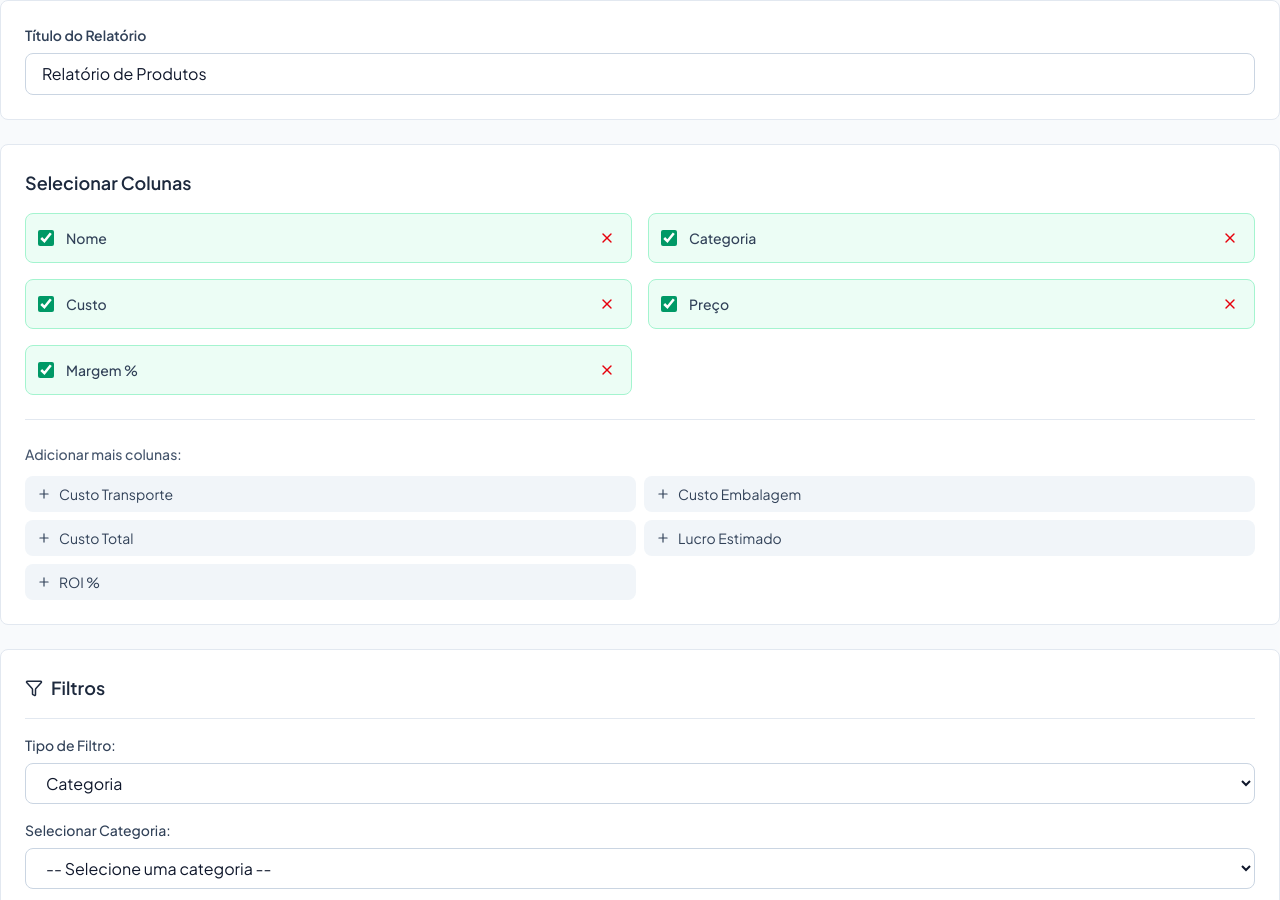
Scenario: ReportBuilder - Filter Functionality › Adding Filters › should add margin range filter
Select "Faixa de Margem" in the dropdown below "Tipo de Filtro:" at [640, 784], box [25,763,1255,804]
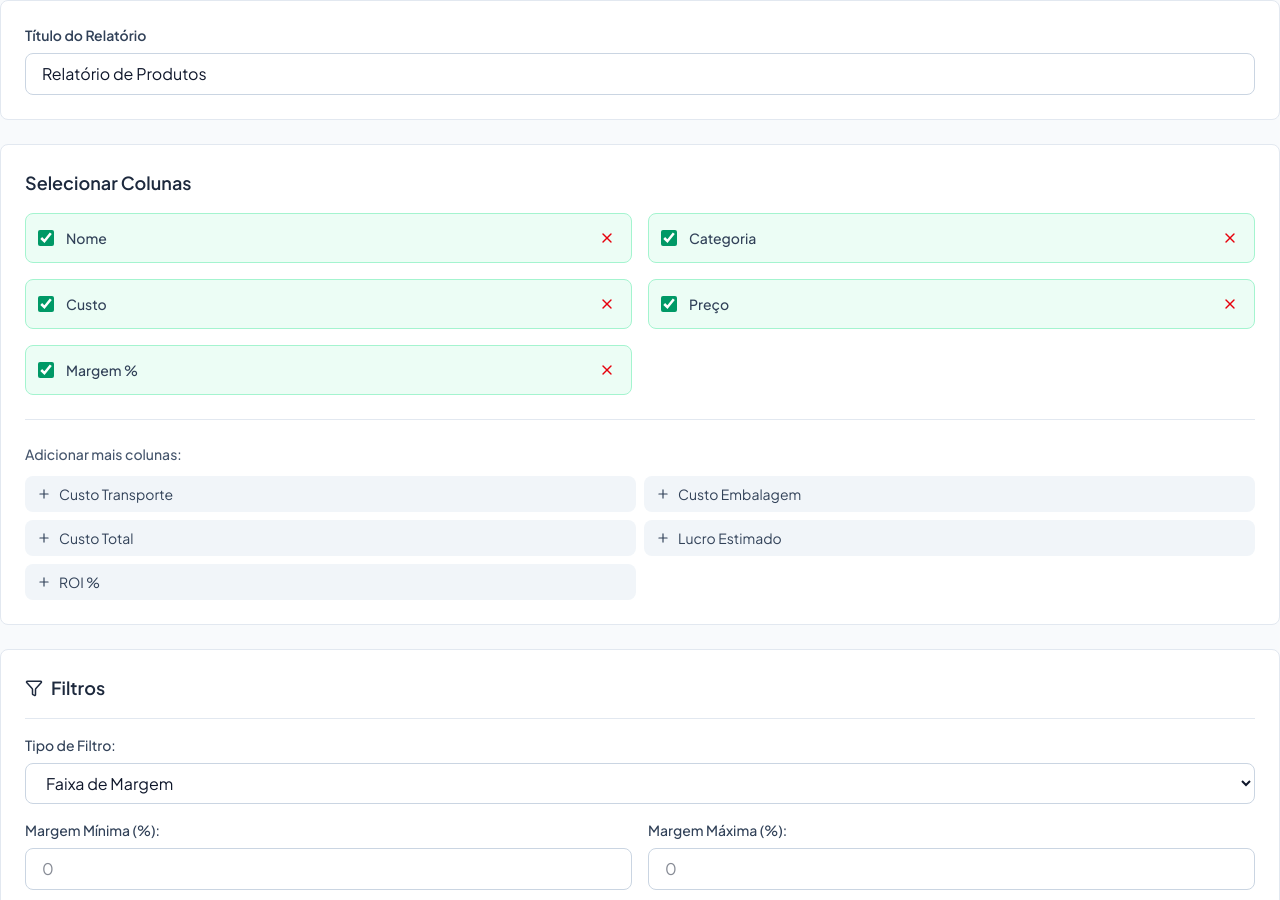
Type "20" into the number field labelled "Margem Mínima (%):" at [328, 869], box [25,848,632,890]
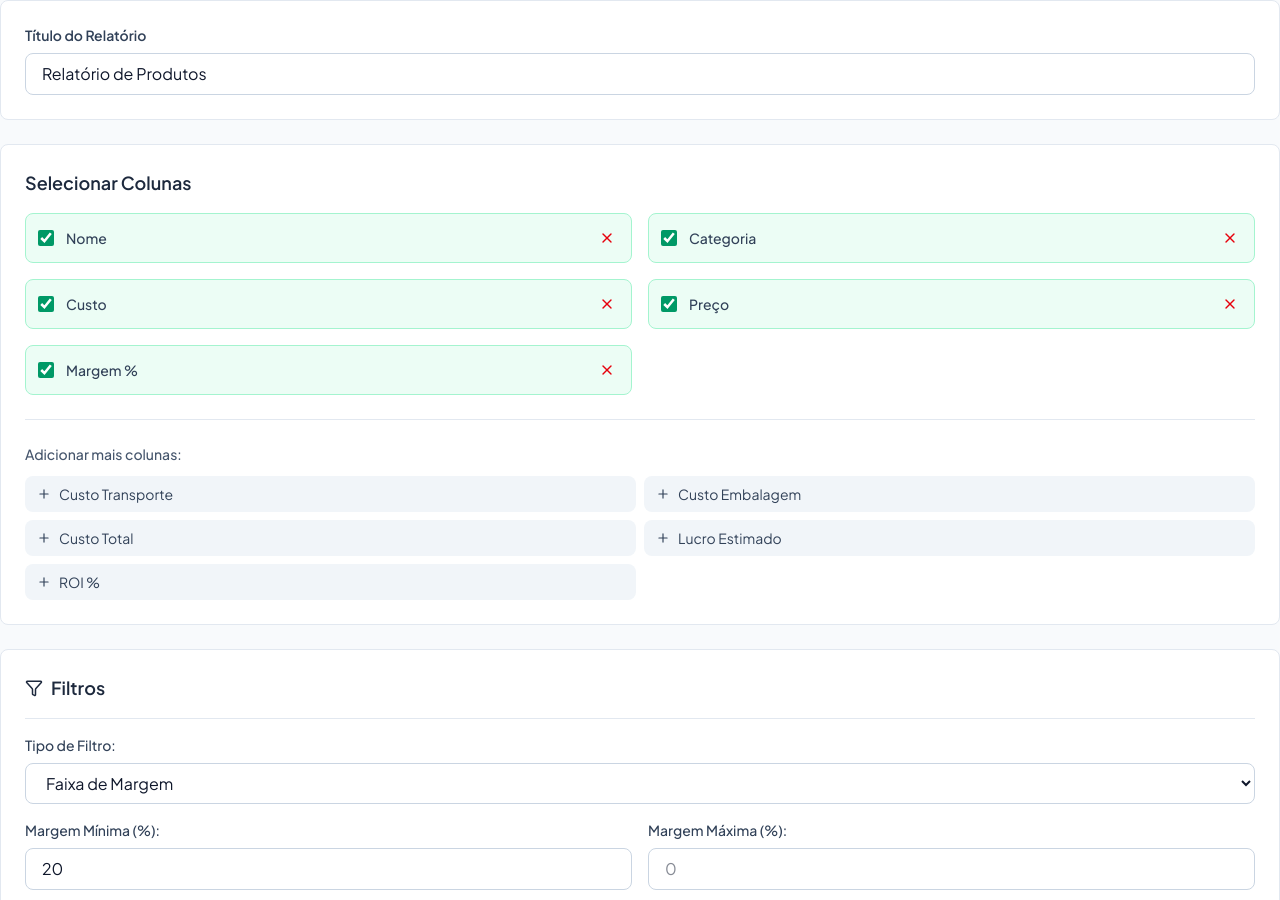
Type "40" into the number field labelled "Margem Máxima (%):" at [952, 869], box [648,848,1255,890]
(page scrolled)
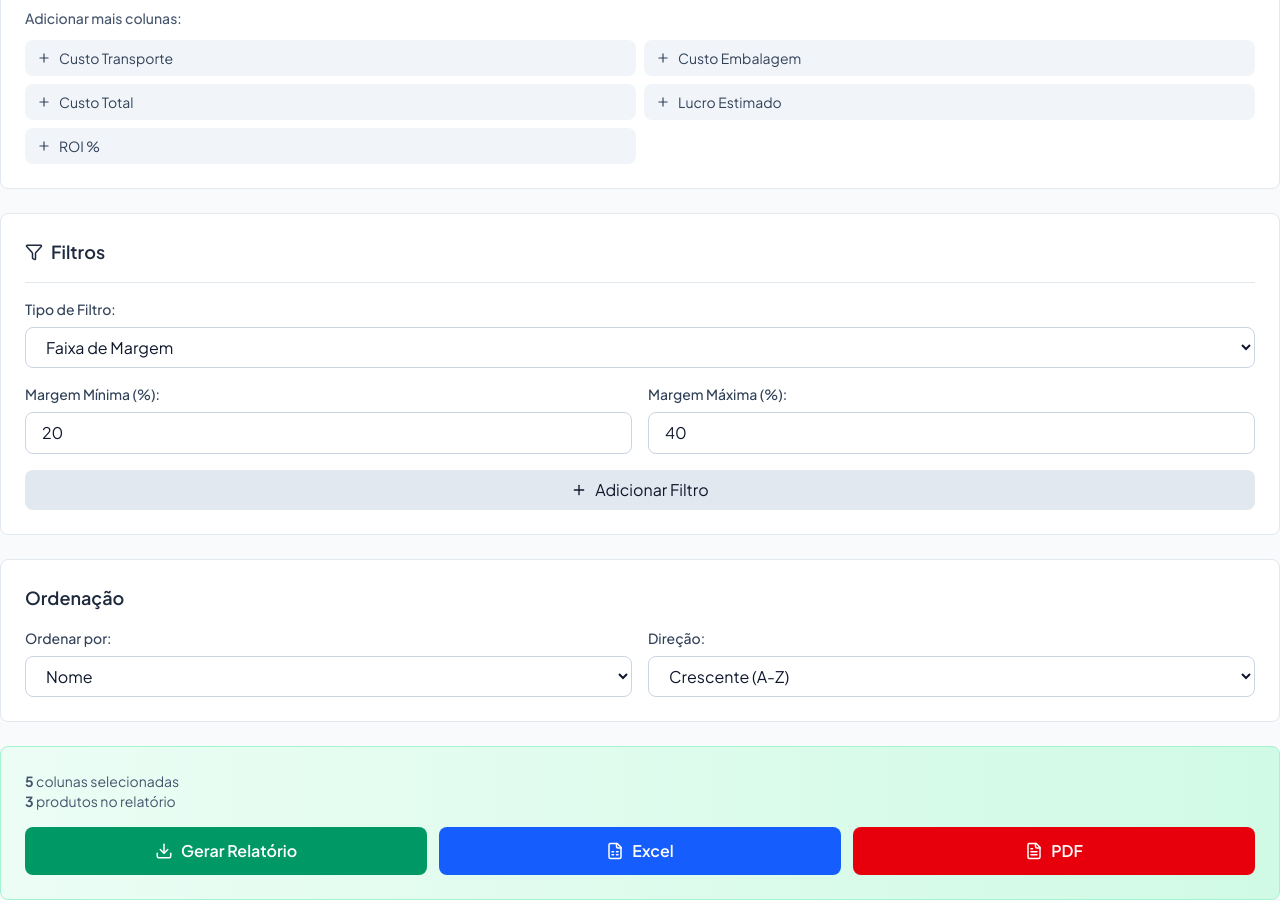
Click the button "Adicionar Filtro" at [640, 490], box [25,470,1255,510]
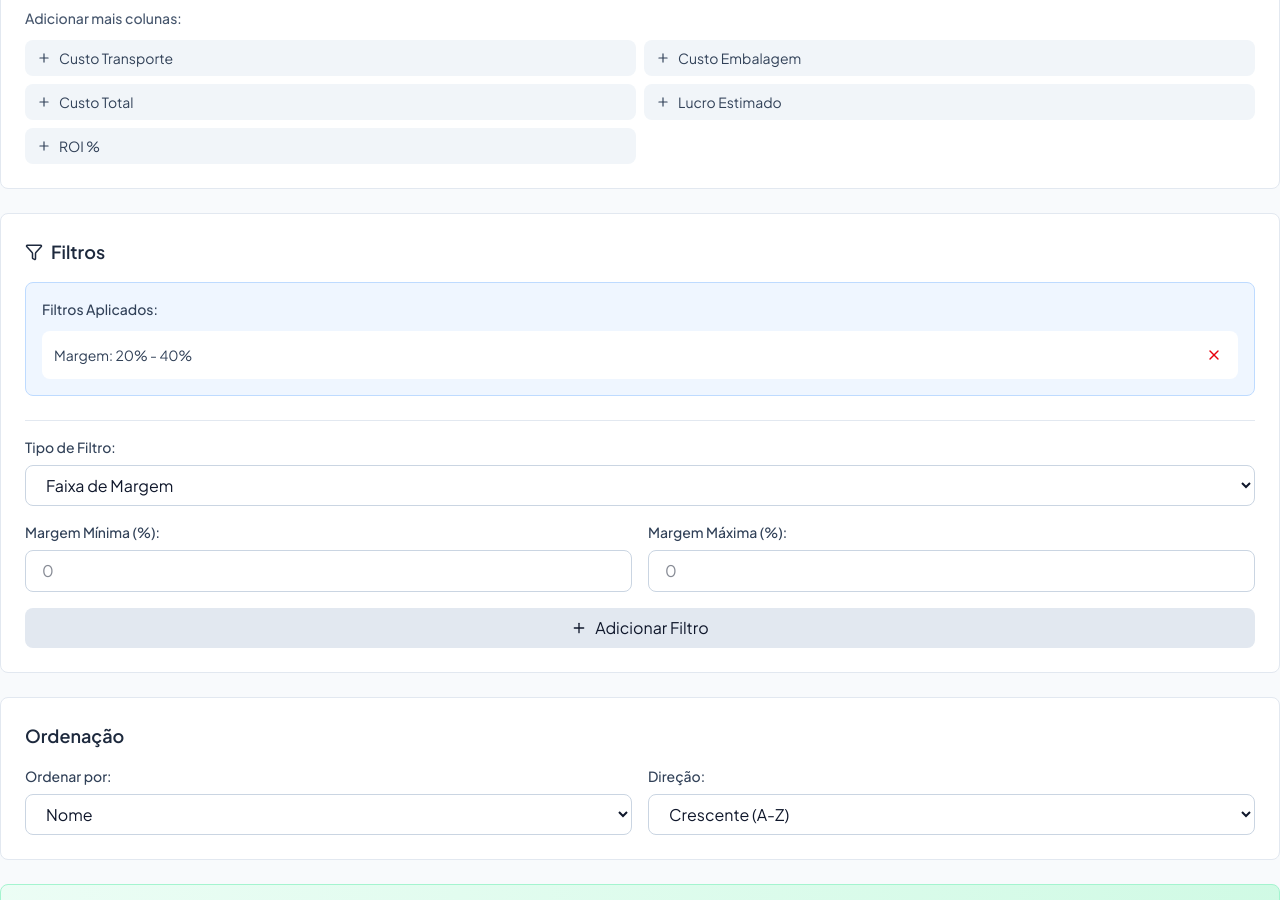
Expected: the text "Margem: 20% - 40%" is shown, [54,345,192,365]
